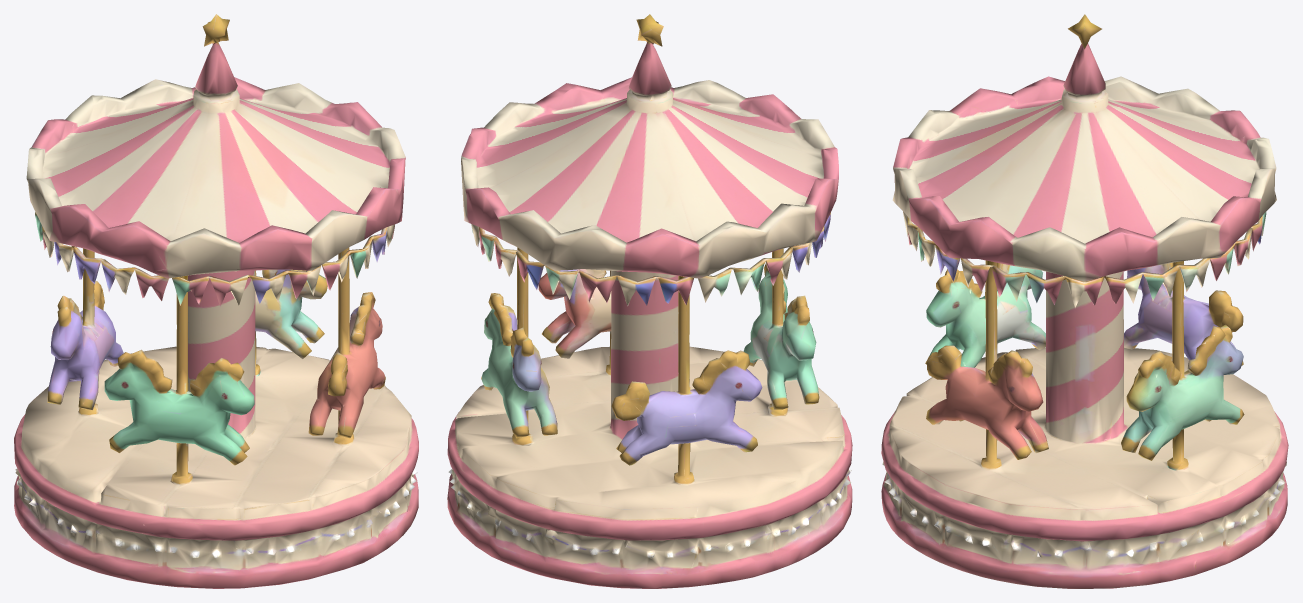
Rendered from carousel.glb.
3 views of the same model, side by side, from view 1: azimuth 30°, elevation 25°; view 2: azimuth 150°, elevation 25°; view 3: azimuth 270°, elevation 25° (orthographic).
Parts seen in each view (by area): view 1: Mesh_0; view 2: Mesh_0; view 3: Mesh_0.
Part boxes in pixels (x1,y1,x2,y2): Mesh_0: [14, 14, 418, 588]; Mesh_0: [447, 14, 852, 588]; Mesh_0: [881, 14, 1288, 588].
Bounding box in the file's own units: 1.44 × 1.91 × 1.44.
Materials: 1 (1 with a texture image).
